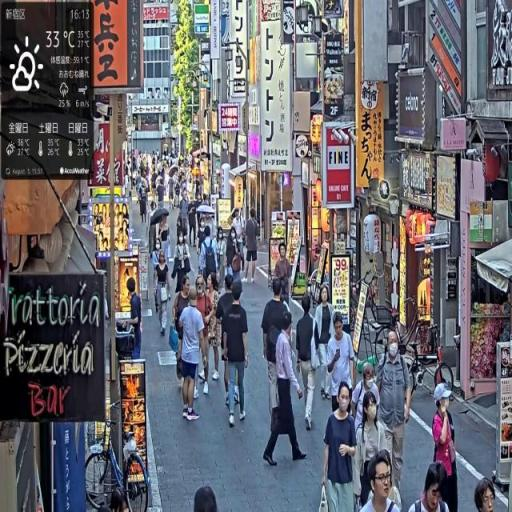person: (263, 316, 309, 468), (376, 330, 412, 507), (321, 380, 359, 512), (261, 279, 291, 434), (220, 283, 251, 428), (357, 391, 391, 510), (178, 291, 208, 421), (432, 381, 459, 512), (326, 313, 358, 416), (295, 297, 318, 432), (360, 451, 403, 512), (314, 287, 335, 406), (408, 465, 451, 512), (155, 252, 174, 337), (128, 276, 144, 357), (245, 209, 261, 288)
